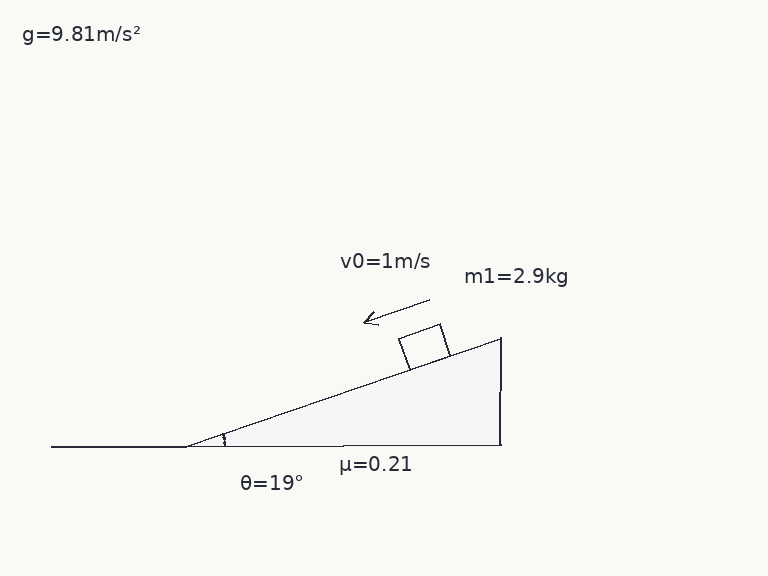block: (396, 322, 452, 371)
ramp: (183, 336, 502, 448)
